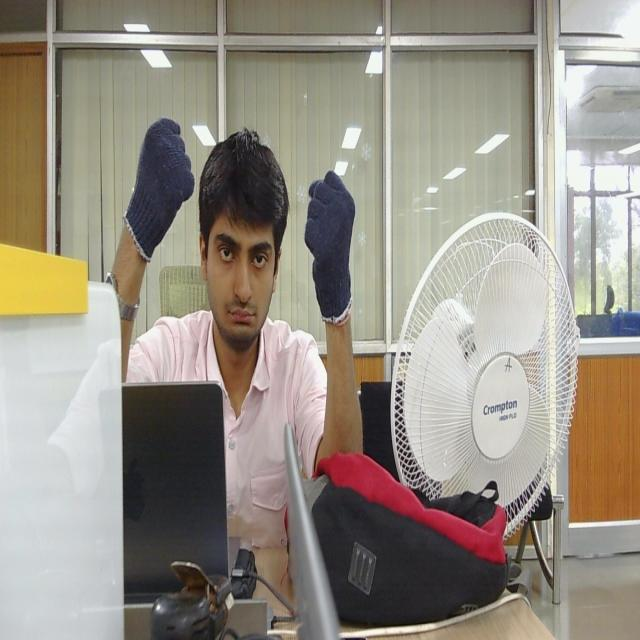Gloves-Detection: (124, 114, 193, 264), (300, 165, 357, 324)
